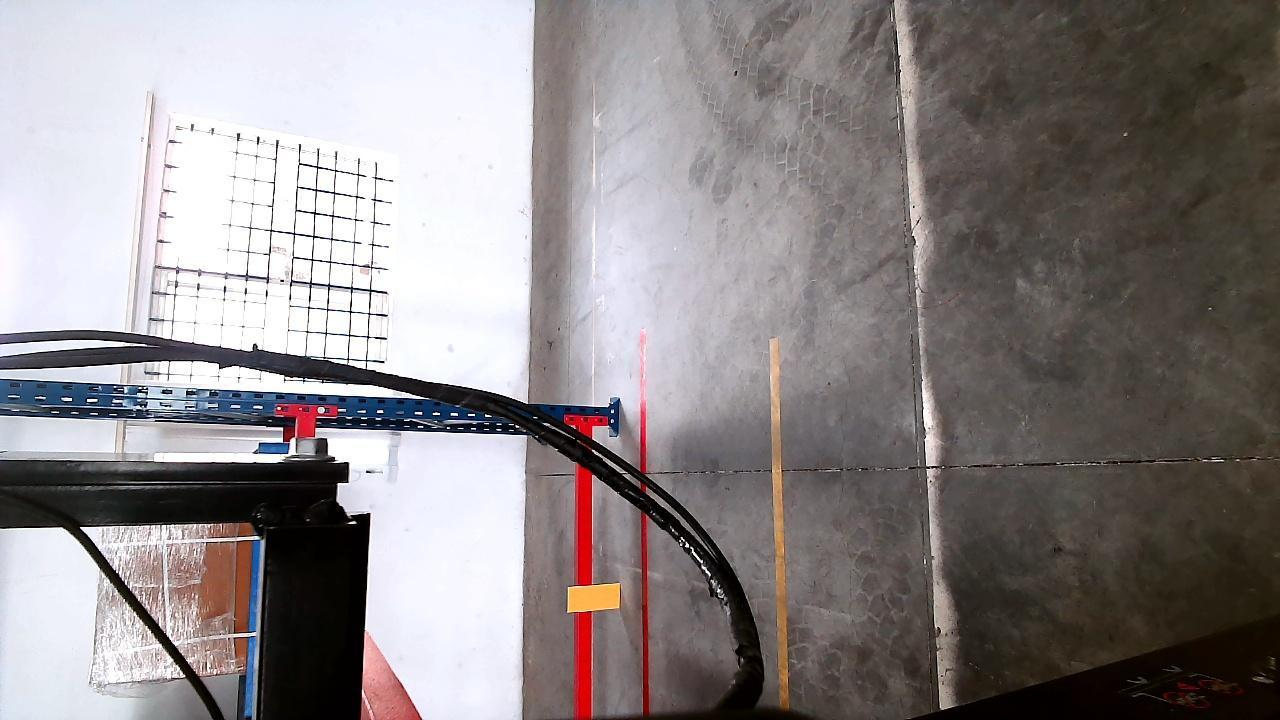h_rack: (570, 428, 597, 718)
orange_strip: (569, 581, 617, 616)
red_line: (637, 327, 654, 712)
yellow_line: (770, 346, 792, 700)
